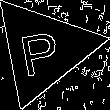P_N: (20, 22, 67, 77)
